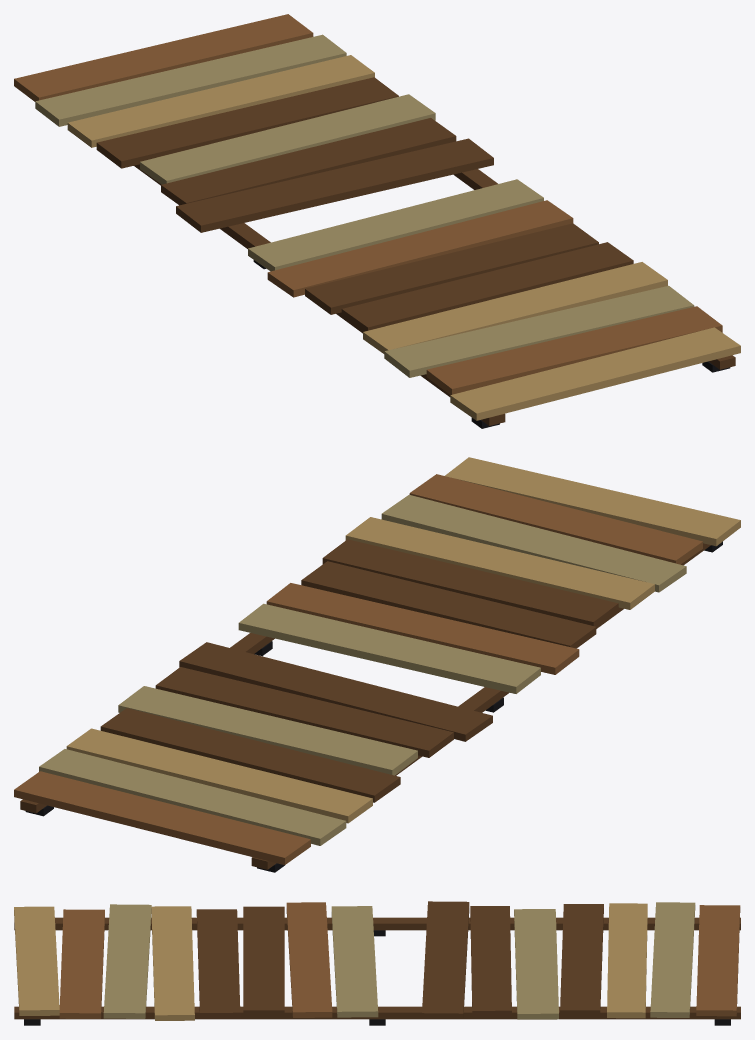
Rendered from prop_plank-walkway.44475741bbab.glb.
3 renders of one model, top to bottom at view 1: azimuth 30°, elevation 25°; view 2: azimuth 150°, elevation 25°; view 3: azimuth 270°, elevation 25°, orthographic. The views are drawn at different scales.
Parts seen in each view (by area): view 1: body; view 2: body; view 3: body.
Boxes of the visible parts, x1,y1,x2,y2 form: body: (14,14,740,428); body: (14,457,740,872); body: (14,901,740,1025).
Bounding box in the file's own units: 1.48 × 0.11 × 4.
